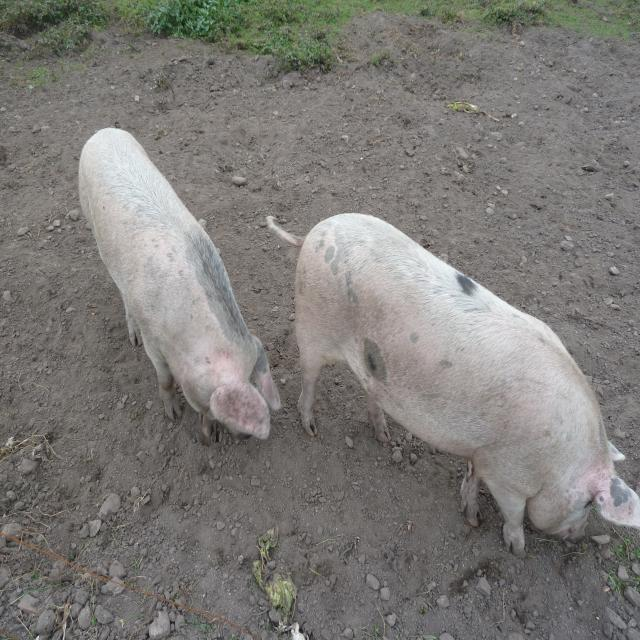Pig: (265, 215, 640, 559), (78, 128, 284, 449)
